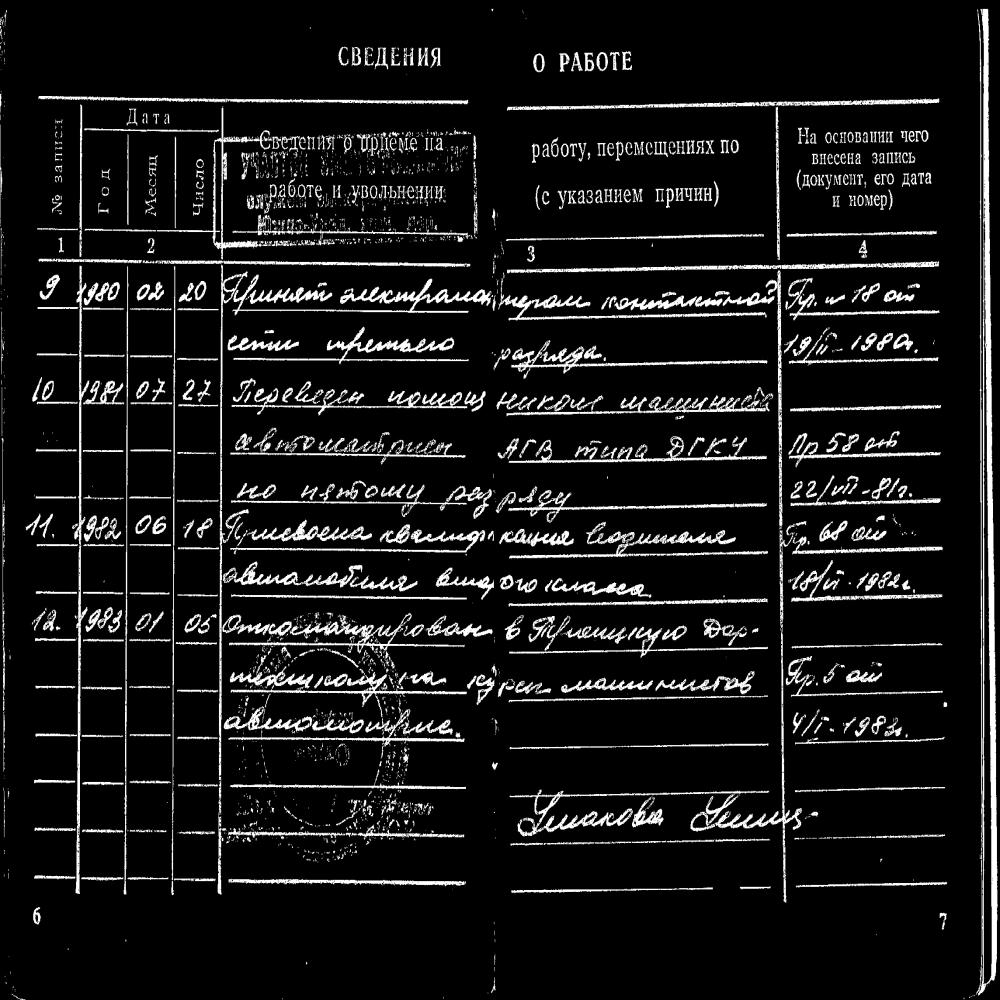rus: (468, 661, 757, 701), (496, 420, 771, 462), (503, 600, 764, 644), (27, 494, 218, 552), (224, 421, 458, 464), (32, 261, 208, 318), (433, 553, 672, 594), (30, 358, 216, 410), (523, 779, 669, 844), (28, 588, 218, 637), (222, 707, 462, 744), (222, 607, 497, 637), (584, 505, 733, 552), (226, 661, 460, 690), (780, 458, 921, 505), (779, 323, 926, 367), (784, 509, 926, 553), (786, 408, 921, 454), (788, 556, 925, 601), (786, 273, 930, 315), (224, 369, 367, 408), (787, 641, 888, 696), (221, 268, 336, 314), (614, 376, 770, 409), (223, 564, 413, 591), (488, 323, 616, 362), (225, 515, 375, 548), (444, 467, 584, 501), (788, 701, 906, 741), (320, 330, 462, 362), (331, 43, 444, 83), (602, 291, 787, 315), (343, 284, 495, 312), (531, 183, 724, 205), (595, 132, 714, 165), (497, 389, 611, 418), (379, 383, 492, 410), (530, 126, 594, 172), (564, 41, 636, 73), (379, 525, 493, 545), (301, 482, 426, 500), (500, 525, 572, 552), (225, 333, 301, 358), (872, 167, 942, 192), (505, 291, 591, 311), (824, 123, 895, 147), (828, 189, 892, 210), (235, 480, 279, 504), (803, 173, 869, 189), (867, 145, 919, 165), (792, 114, 820, 147), (811, 149, 865, 164), (715, 132, 746, 157), (523, 50, 552, 76), (898, 126, 931, 146)
